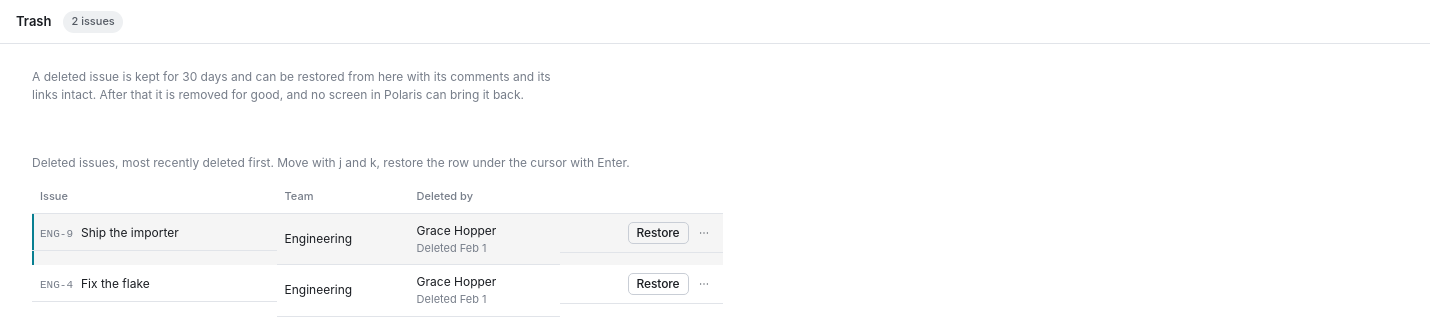
Trash › restores an issue, takes the row away and says so
This screenshot has width=1440, height=334.
Click the button with aria-label "Restore ENG-9" at (658, 232), box [628,222,688,244]
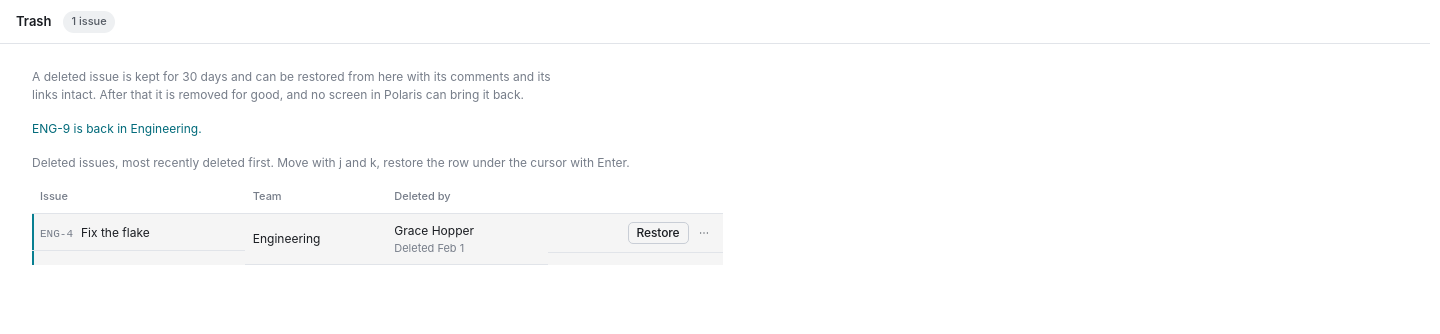
Expected: the text "ENG-9 is back in Engineering." is shown, [32,121,202,136]
